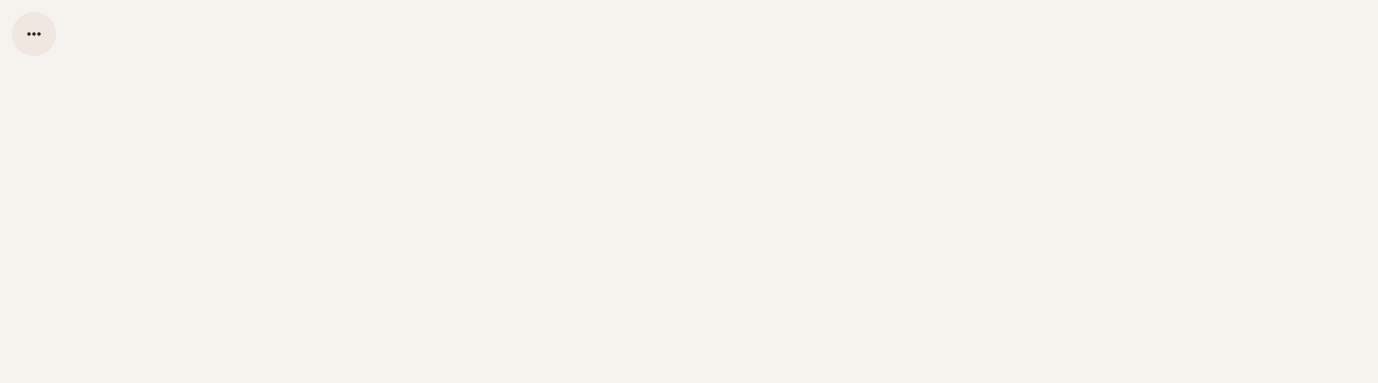
PageActionsMenu › is closed until the trigger is pressed, then lists the actions
Click the button named "Actions for Cell walls": (34, 34) x1=12 y1=12 x2=56 y2=56
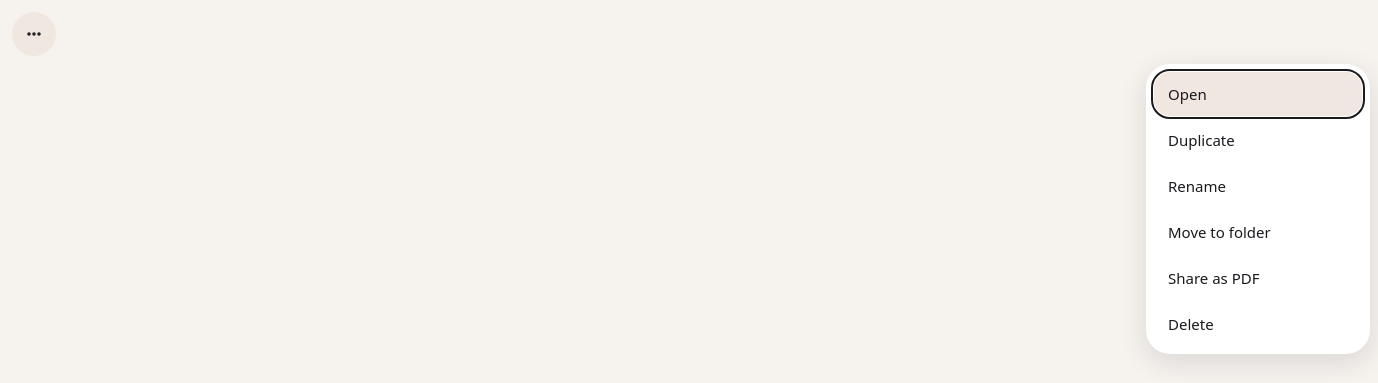
Expected: the menu items read "Open", "Duplicate", "Rename", "Move to folder", "Share as PDF", "Delete", in this order, x1=1154 y1=72 x2=1362 y2=116; x1=1154 y1=118 x2=1362 y2=162; x1=1154 y1=164 x2=1362 y2=208; x1=1154 y1=210 x2=1362 y2=254; x1=1154 y1=256 x2=1362 y2=300; x1=1154 y1=302 x2=1362 y2=346
